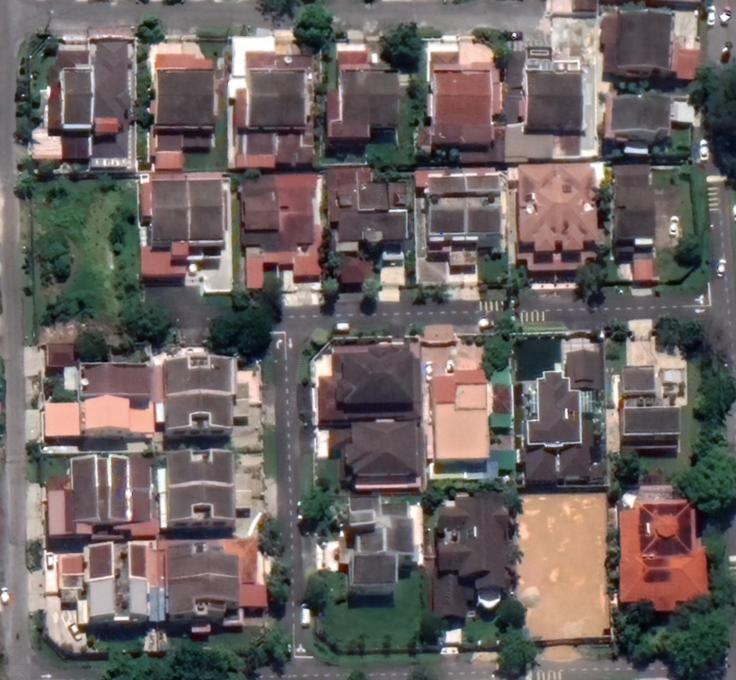building: (507, 346, 608, 491), (613, 479, 715, 616), (425, 489, 521, 624), (41, 449, 164, 544), (512, 157, 605, 277), (325, 165, 414, 289), (420, 167, 512, 274), (309, 342, 425, 426), (332, 492, 427, 591), (426, 365, 496, 469), (324, 419, 423, 489), (230, 47, 283, 173), (614, 362, 685, 454), (54, 577, 165, 631), (87, 33, 133, 162), (38, 392, 159, 441), (51, 537, 165, 589), (150, 48, 193, 174), (278, 172, 325, 284), (166, 580, 271, 630), (238, 173, 281, 292), (323, 47, 374, 144), (601, 37, 709, 82), (608, 158, 656, 259), (279, 48, 318, 171), (159, 347, 243, 402), (165, 536, 259, 583), (427, 47, 467, 148), (148, 176, 193, 264), (164, 444, 238, 492), (602, 91, 677, 137), (187, 49, 218, 155), (75, 358, 155, 399), (188, 175, 231, 249), (163, 487, 240, 527), (55, 64, 97, 135), (161, 397, 239, 435), (597, 7, 678, 43), (521, 63, 559, 139), (466, 64, 499, 149), (372, 63, 411, 133), (556, 68, 587, 139)
